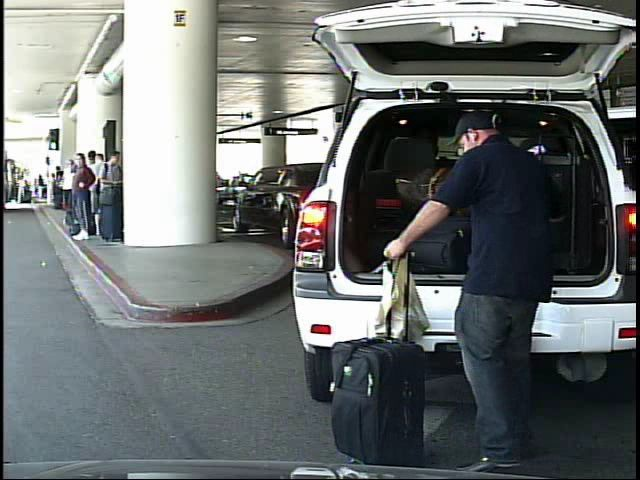person: (379, 104, 554, 476), (33, 172, 46, 202), (17, 175, 28, 206)
